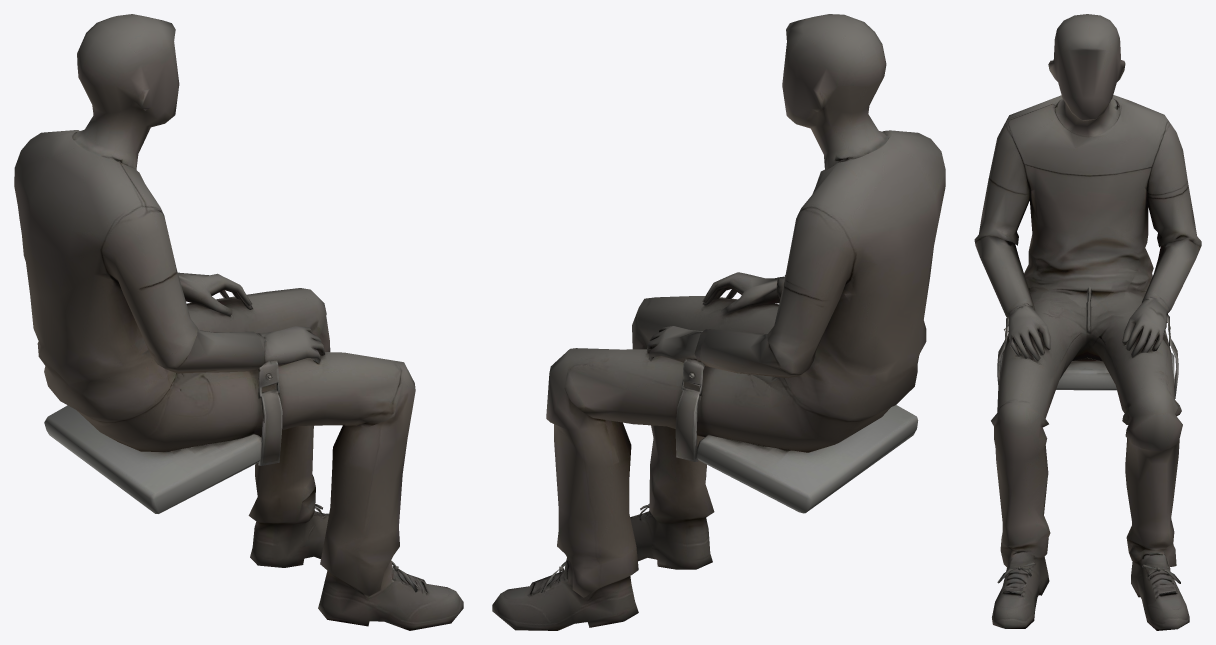
Rendered from seated-a.glb.
3 renders of one model, left to right at view 1: azimuth 30°, elevation 25°; view 2: azimuth 150°, elevation 25°; view 3: azimuth 270°, elevation 25°, orthographic. The views are drawn at different scales.
Visible parts, largest first — view 1: tripo_node_db57ea35-e179-4db3-b996-41c3db22bf3c; view 2: tripo_node_db57ea35-e179-4db3-b996-41c3db22bf3c; view 3: tripo_node_db57ea35-e179-4db3-b996-41c3db22bf3c.
Part boxes in pixels (x1,y1,x2,y2): tripo_node_db57ea35-e179-4db3-b996-41c3db22bf3c: [14, 14, 463, 630]; tripo_node_db57ea35-e179-4db3-b996-41c3db22bf3c: [492, 14, 945, 630]; tripo_node_db57ea35-e179-4db3-b996-41c3db22bf3c: [974, 14, 1201, 630].
Bounding box in the file's own units: 0.6152 × 0.998 × 0.4082.
1 material, 1 textured.
